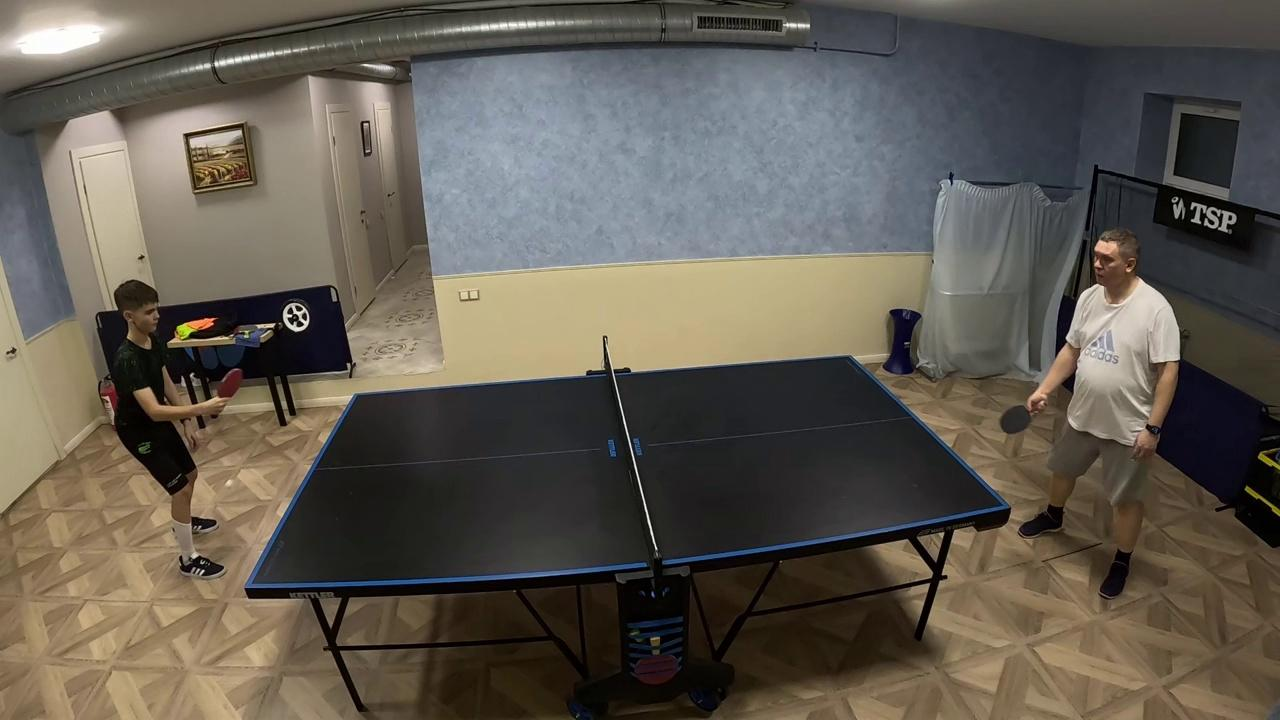Ball: (224, 477, 239, 489)
Net: (602, 336, 662, 588)
Player1: (111, 279, 224, 575)
Player2: (1021, 230, 1180, 598)
Table: (250, 372, 649, 595), (616, 356, 1008, 570)
